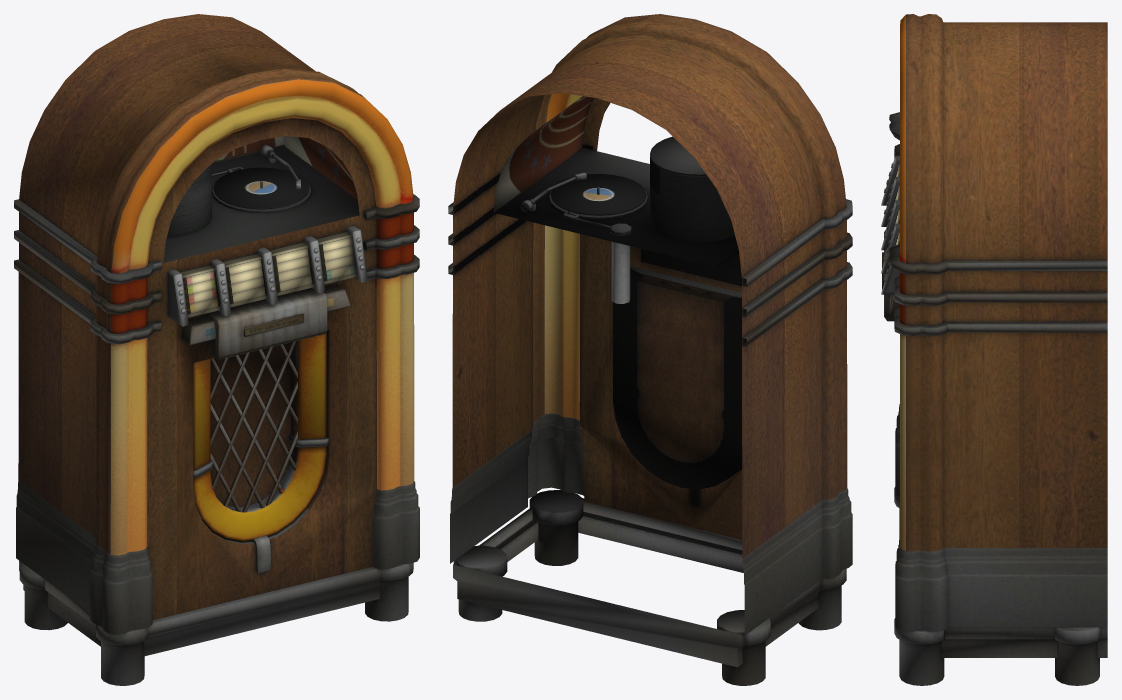
Rendered from Jukebox.obj.
3 views of the same model, side by side, from view 1: azimuth 30°, elevation 25°; view 2: azimuth 150°, elevation 25°; view 3: azimuth 270°, elevation 25° (orthographic). The views are drawn at different scales.
Size of the model in its own units: 2.6 by 4.49 by 1.59.
Materials: 2 (2 with a texture image).
